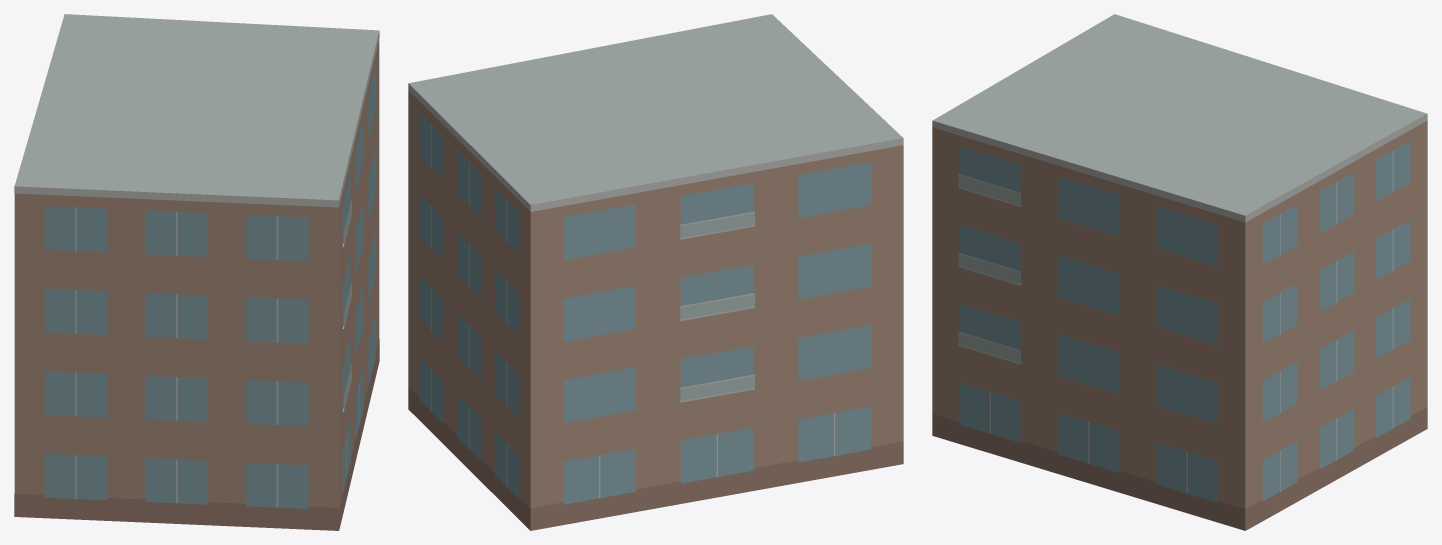
Rendered from survey-upis-32866005.glb.
3 renders of one model, left to right at view 1: azimuth 30°, elevation 25°; view 2: azimuth 150°, elevation 25°; view 3: azimuth 270°, elevation 25°, orthographic. The views are drawn at different scales.
Visible parts, largest first — view 1: survey-upis-32866005.tmp; view 2: survey-upis-32866005.tmp; view 3: survey-upis-32866005.tmp.
Part boxes in pixels (left/top/right/bottom): survey-upis-32866005.tmp: left=14, top=14, right=379, bottom=530; survey-upis-32866005.tmp: left=408, top=14, right=903, bottom=530; survey-upis-32866005.tmp: left=932, top=14, right=1427, bottom=530.
Bounding box in the file's own units: 15.59 × 11.35 × 16.17.
